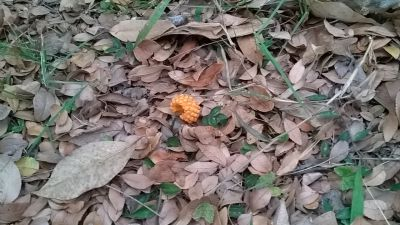eggs: (171, 93, 201, 123)
